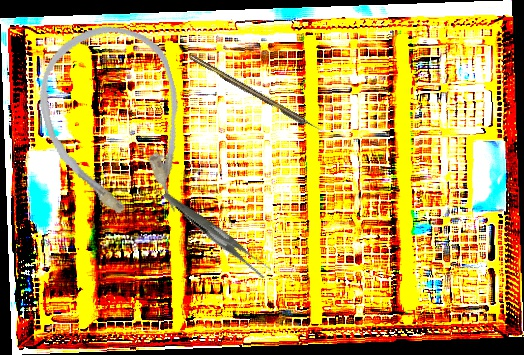Cannula: (23, 11, 209, 240)
Dressing Forceps: (162, 167, 273, 300)
Hook Surgical: (189, 53, 326, 137)
